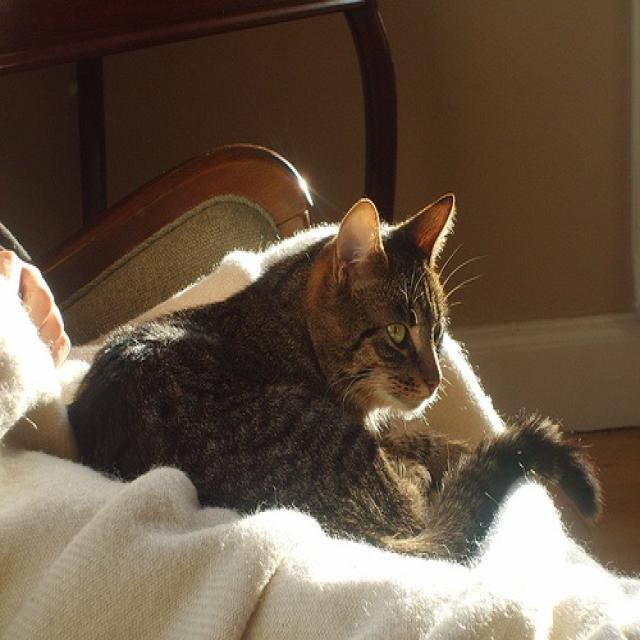cat: (69, 192, 606, 566)
sofa: (3, 109, 319, 360)
